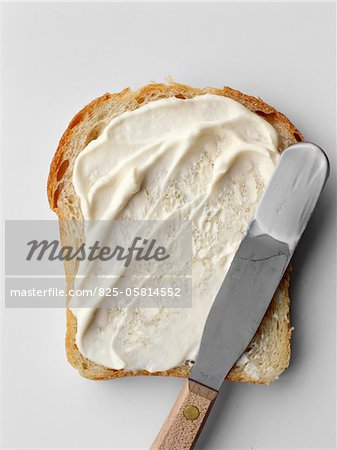slice of bread: (41, 84, 293, 385)
